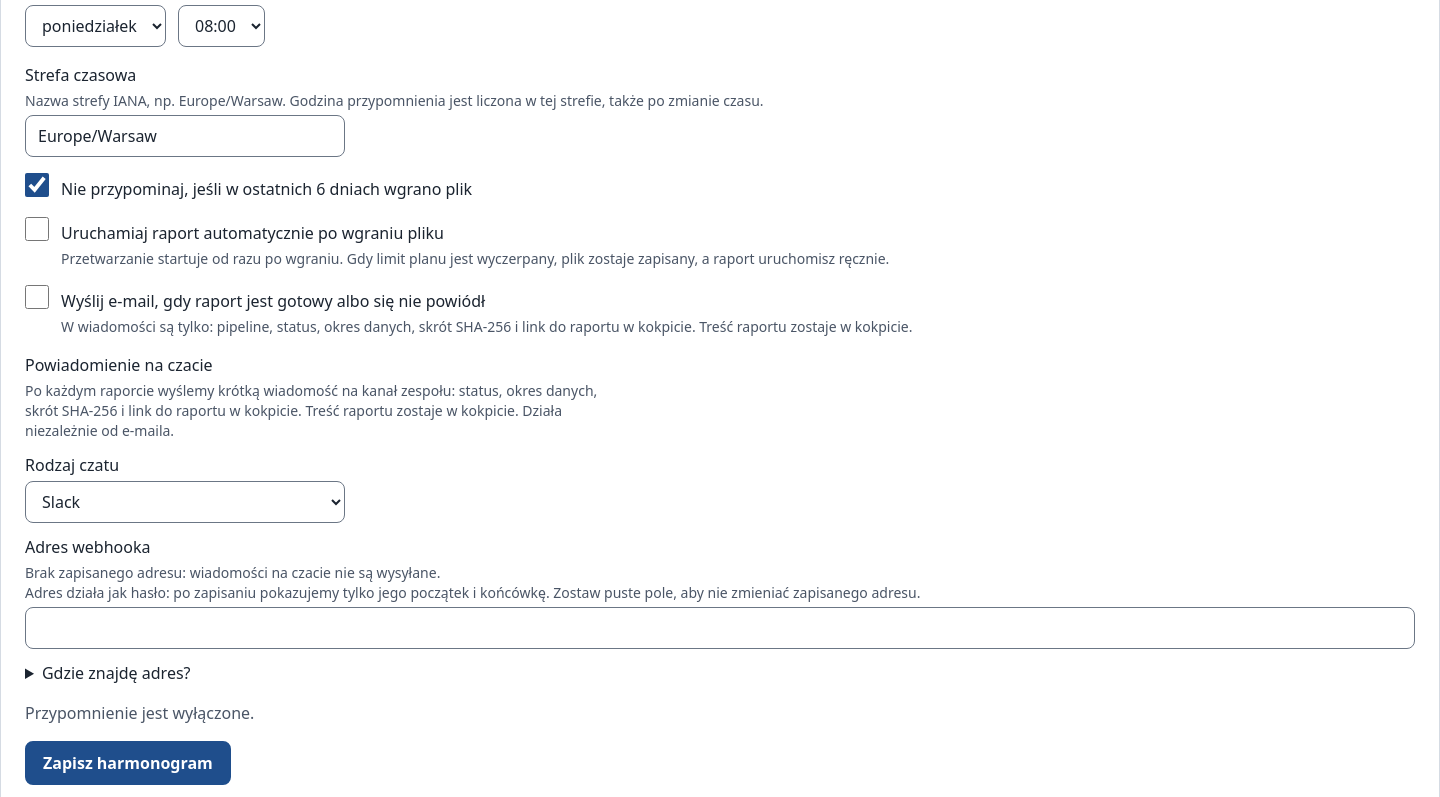
ScheduleSettingsCard › inny błąd zapisu (403) pokazuje komunikat ogólny
(page scrolled)
Click the button "Zapisz harmonogram" at (128, 763), box [25, 741, 231, 785]
(page scrolled)
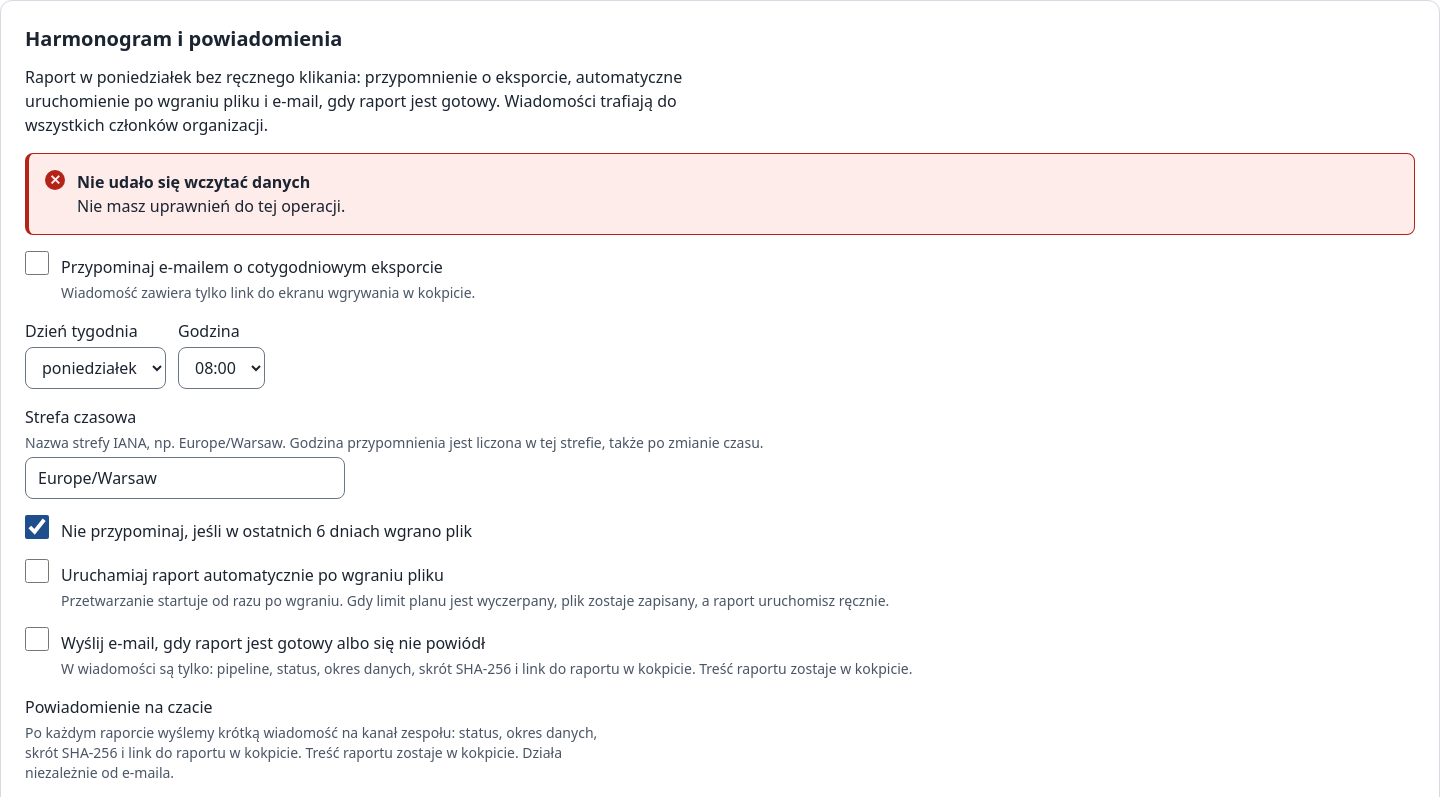
Now the message "Nie udało się wczytać danych Nie masz uprawnień do tej operacji." is shown, box [25, 153, 1415, 235]
